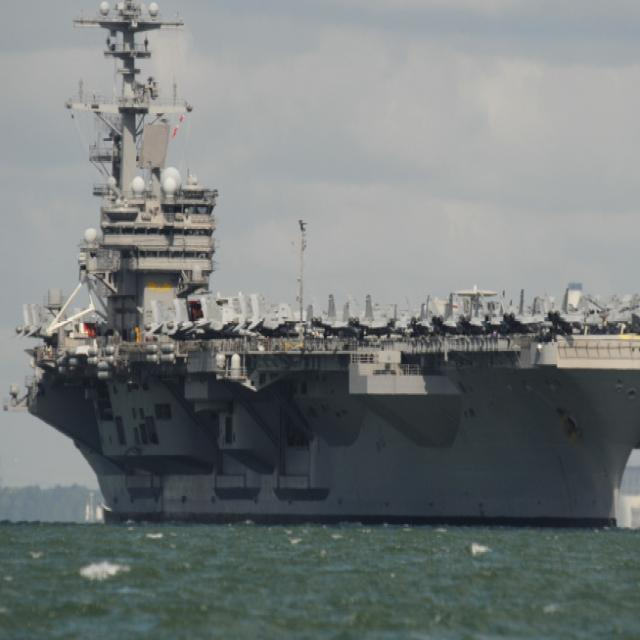Portanaves: (12, 1, 640, 528)
